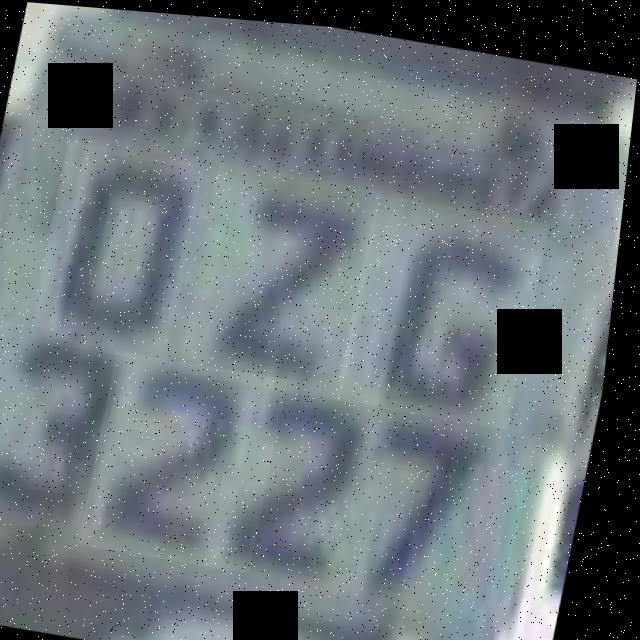2: (89, 347, 296, 569), (215, 366, 414, 592)
3: (0, 312, 156, 548)
7: (347, 378, 531, 625)
G: (342, 186, 554, 420)
O: (35, 139, 211, 360)
Z: (184, 157, 387, 395)
